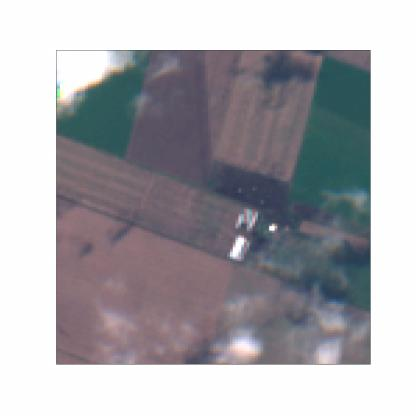silobolsa: (228, 236, 249, 260)
